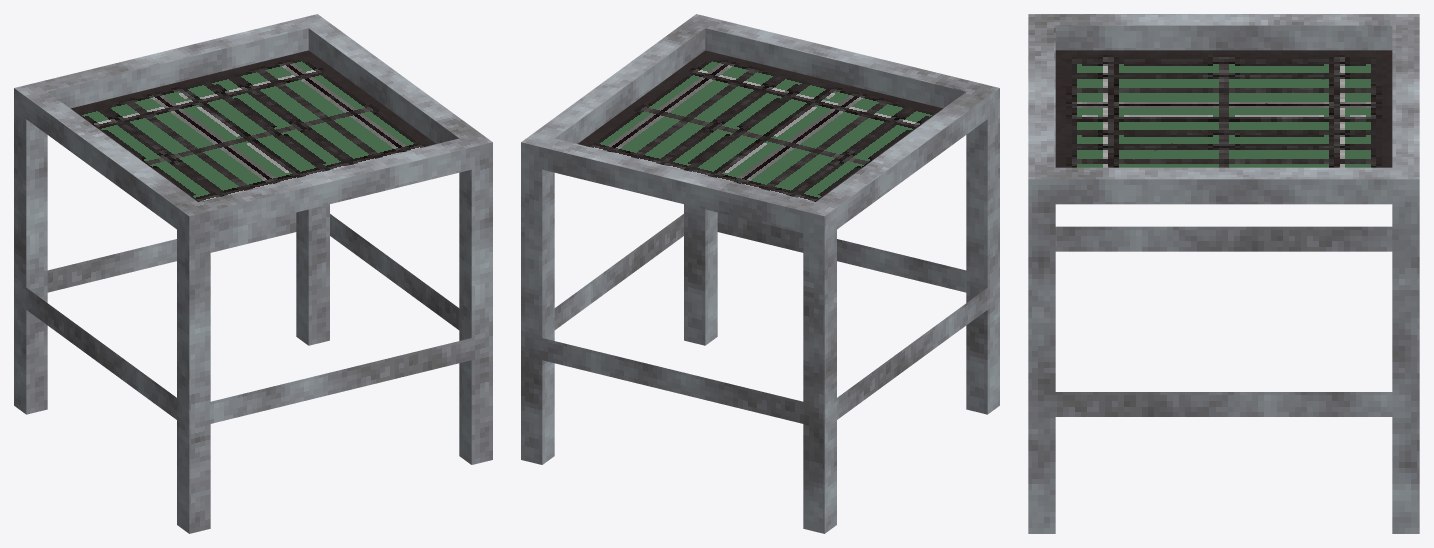
The model's file is scaffolding_structure.fbx.
The picture shows the model from 3 angles, left to right: view 1: azimuth 30°, elevation 25°; view 2: azimuth 150°, elevation 25°; view 3: azimuth 270°, elevation 25°; orthographic projection. The views are drawn at different scales.
Visible parts, largest first — view 1: scaffolding_structure; view 2: scaffolding_structure; view 3: scaffolding_structure.
Boxes of the visible parts, <box> form: scaffolding_structure: <box>14,14,492,533</box>; scaffolding_structure: <box>521,14,999,533</box>; scaffolding_structure: <box>1028,14,1419,533</box>.
Bounding box in the file's own units: 10 × 10 × 10.
